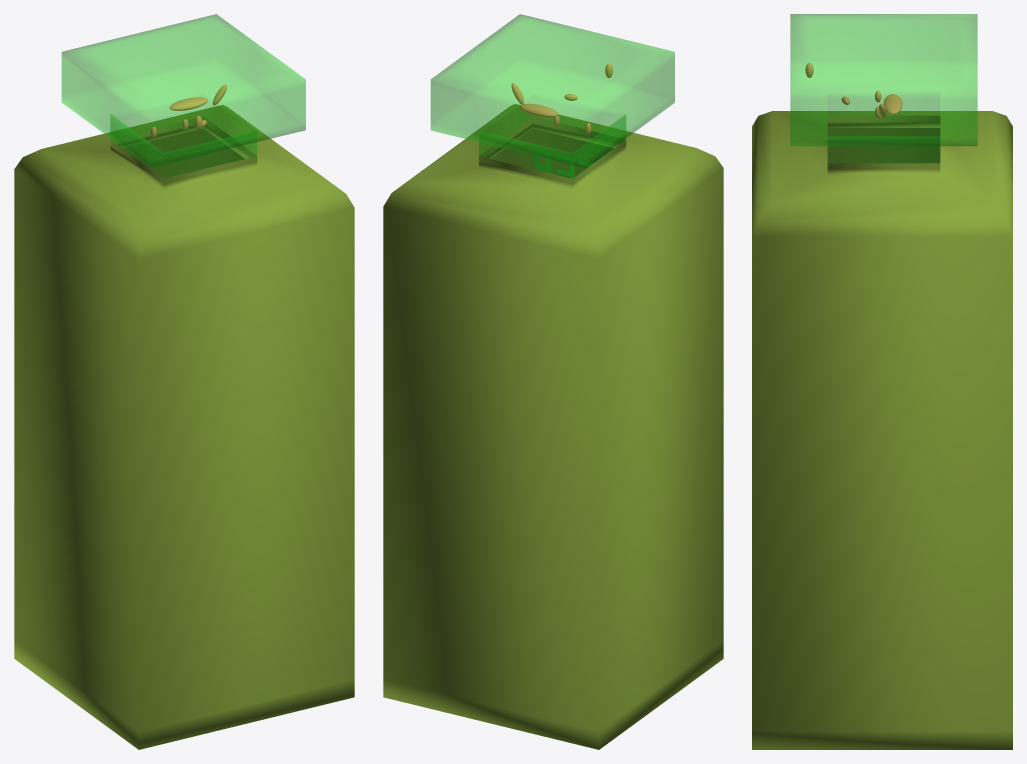
Rendered from thank_you_bottle.gltf.
3 views of the same model, side by side, from view 1: azimuth 30°, elevation 25°; view 2: azimuth 150°, elevation 25°; view 3: azimuth 270°, elevation 25° (orthographic). The views are drawn at different scales.
Visible parts, largest first — view 1: thank you bottle, thank you bottle tip; view 2: thank you bottle, thank you bottle tip; view 3: thank you bottle, thank you bottle tip.
Boxes of the visible parts, x1,y1,x2,y2 form: thank you bottle: (14,105,354,749); thank you bottle tip: (61,14,305,181); thank you bottle: (383,104,723,749); thank you bottle tip: (430,14,674,187); thank you bottle: (752,111,1012,749); thank you bottle tip: (790,14,977,163).
Size of the model in its own units: 0.3368 by 0.9214 by 0.3368.
